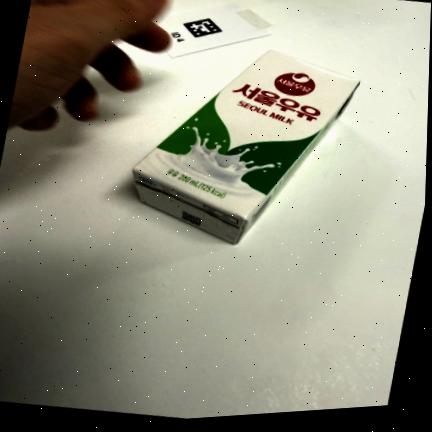milk_green: (133, 51, 359, 244)
